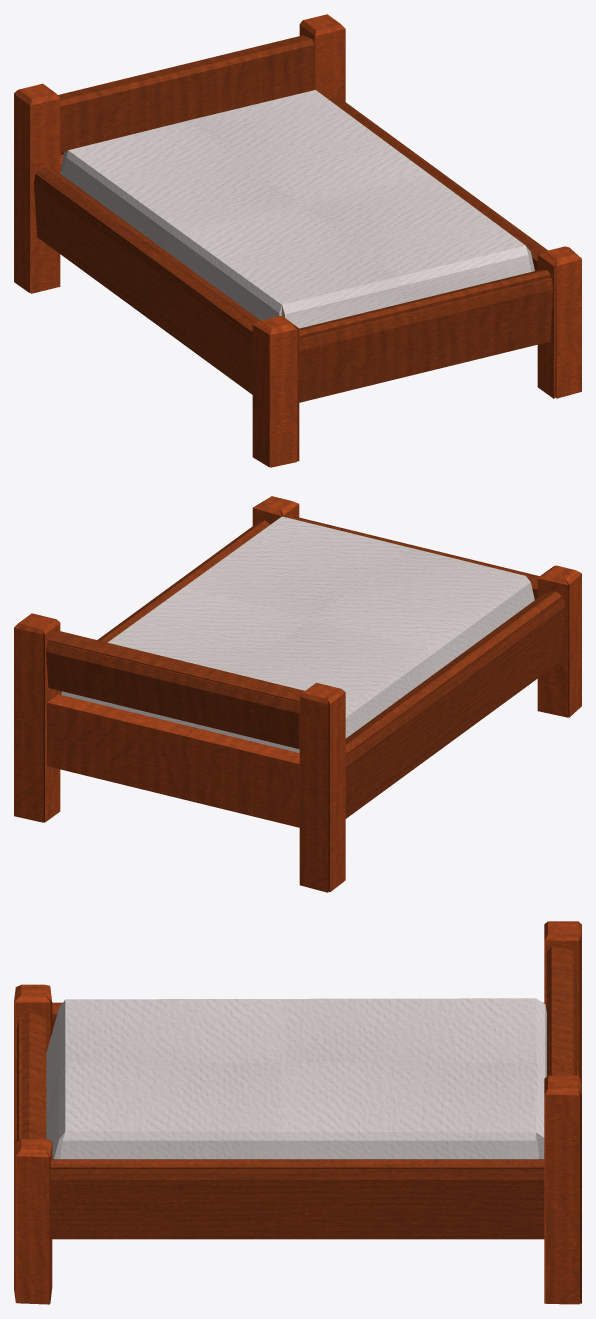
Rendered from In Kasur.fbx.
3 renders of one model, top to bottom at view 1: azimuth 30°, elevation 25°; view 2: azimuth 150°, elevation 25°; view 3: azimuth 270°, elevation 25°, orthographic. The views are drawn at different scales.
Parts seen in each view (by area): view 1: In Kasur; view 2: In Kasur; view 3: In Kasur.
Boxes of the visible parts, <box> form: In Kasur: <box>14,14,581,467</box>; In Kasur: <box>14,496,581,892</box>; In Kasur: <box>14,921,581,1304</box>.
Bounding box in the file's own units: 6.1 × 3.54 × 8.54.
